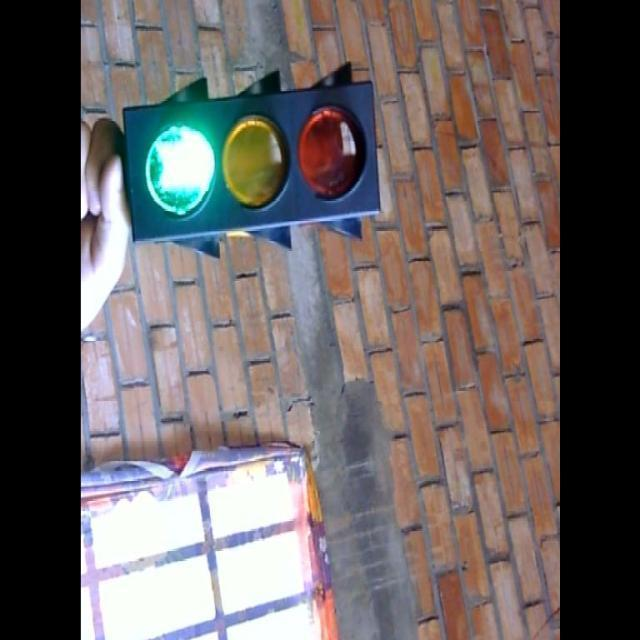green_light: (83, 69, 378, 239)
